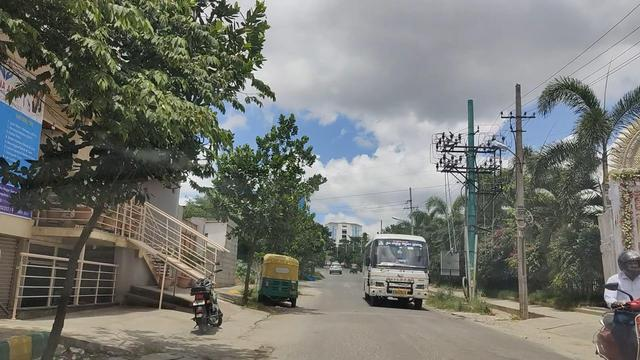HMV: (357, 223, 439, 319)
LMV: (172, 259, 241, 343)
RoadDamages: (122, 335, 233, 360)
